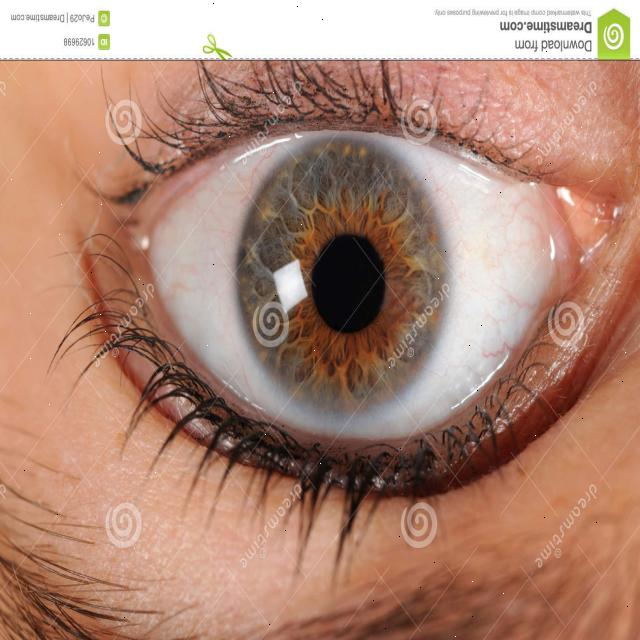Normal: (237, 131, 446, 417)
